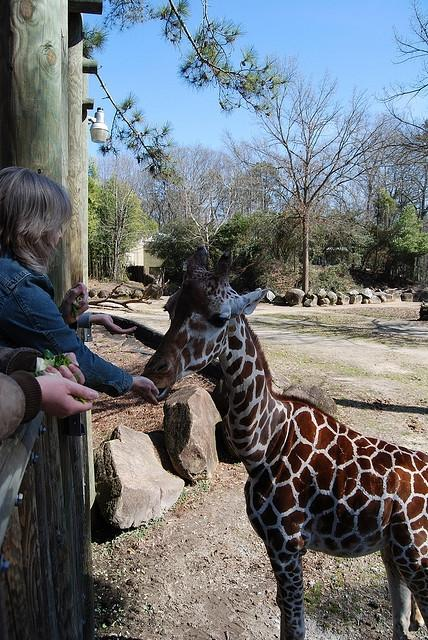lettuce: (62, 357, 79, 382), (54, 353, 65, 371), (36, 357, 48, 372), (72, 394, 88, 404), (44, 349, 54, 360)
